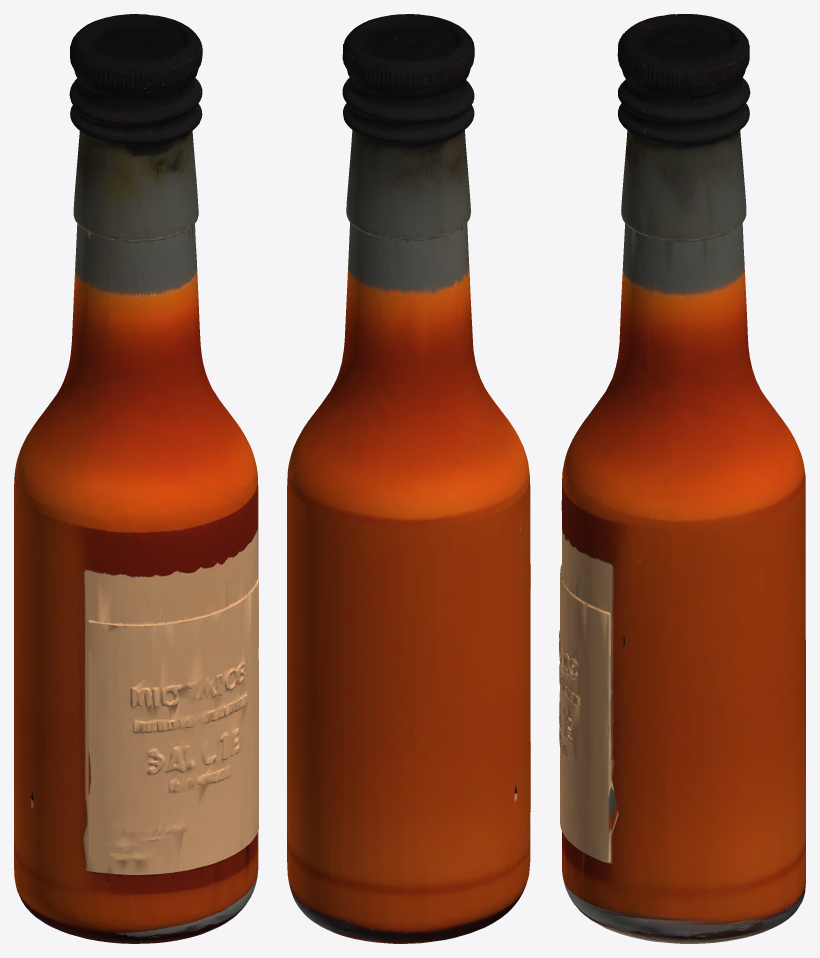
The model's file is kitchen-hot-sauce-06.glb.
3 views of the same model, side by side, from view 1: azimuth 30°, elevation 25°; view 2: azimuth 150°, elevation 25°; view 3: azimuth 270°, elevation 25° (orthographic).
Size of the model in its own units: 0.4866 by 1.9 by 0.4917.
1 material, 1 textured.
